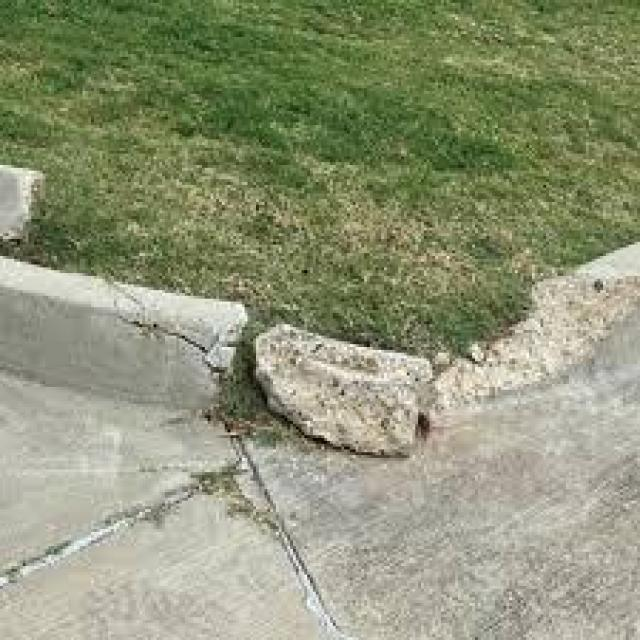curb: (0, 261, 247, 412), (441, 251, 637, 412)
